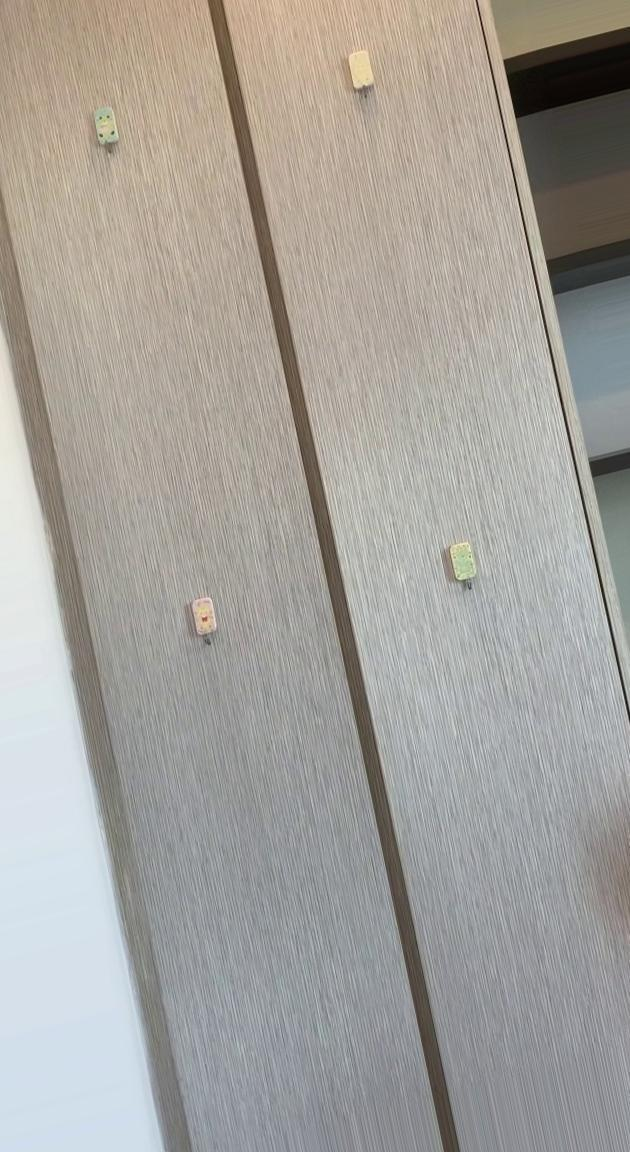Armario: (0, 7, 628, 1149)
